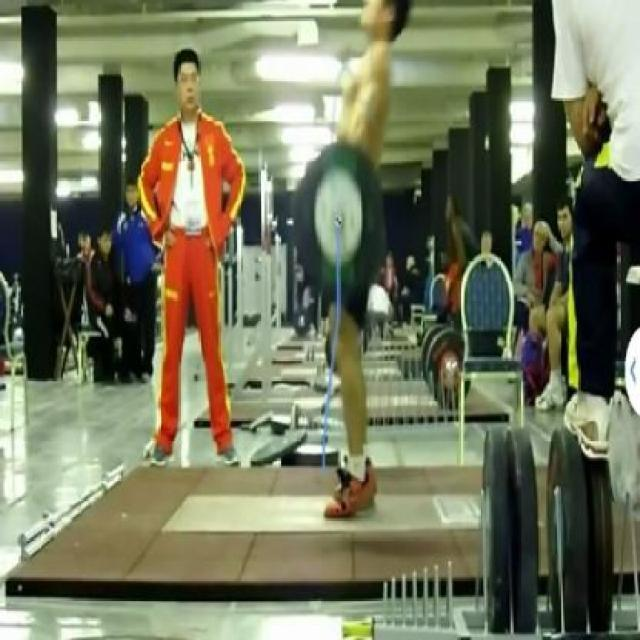barbell: (293, 136, 392, 309)
